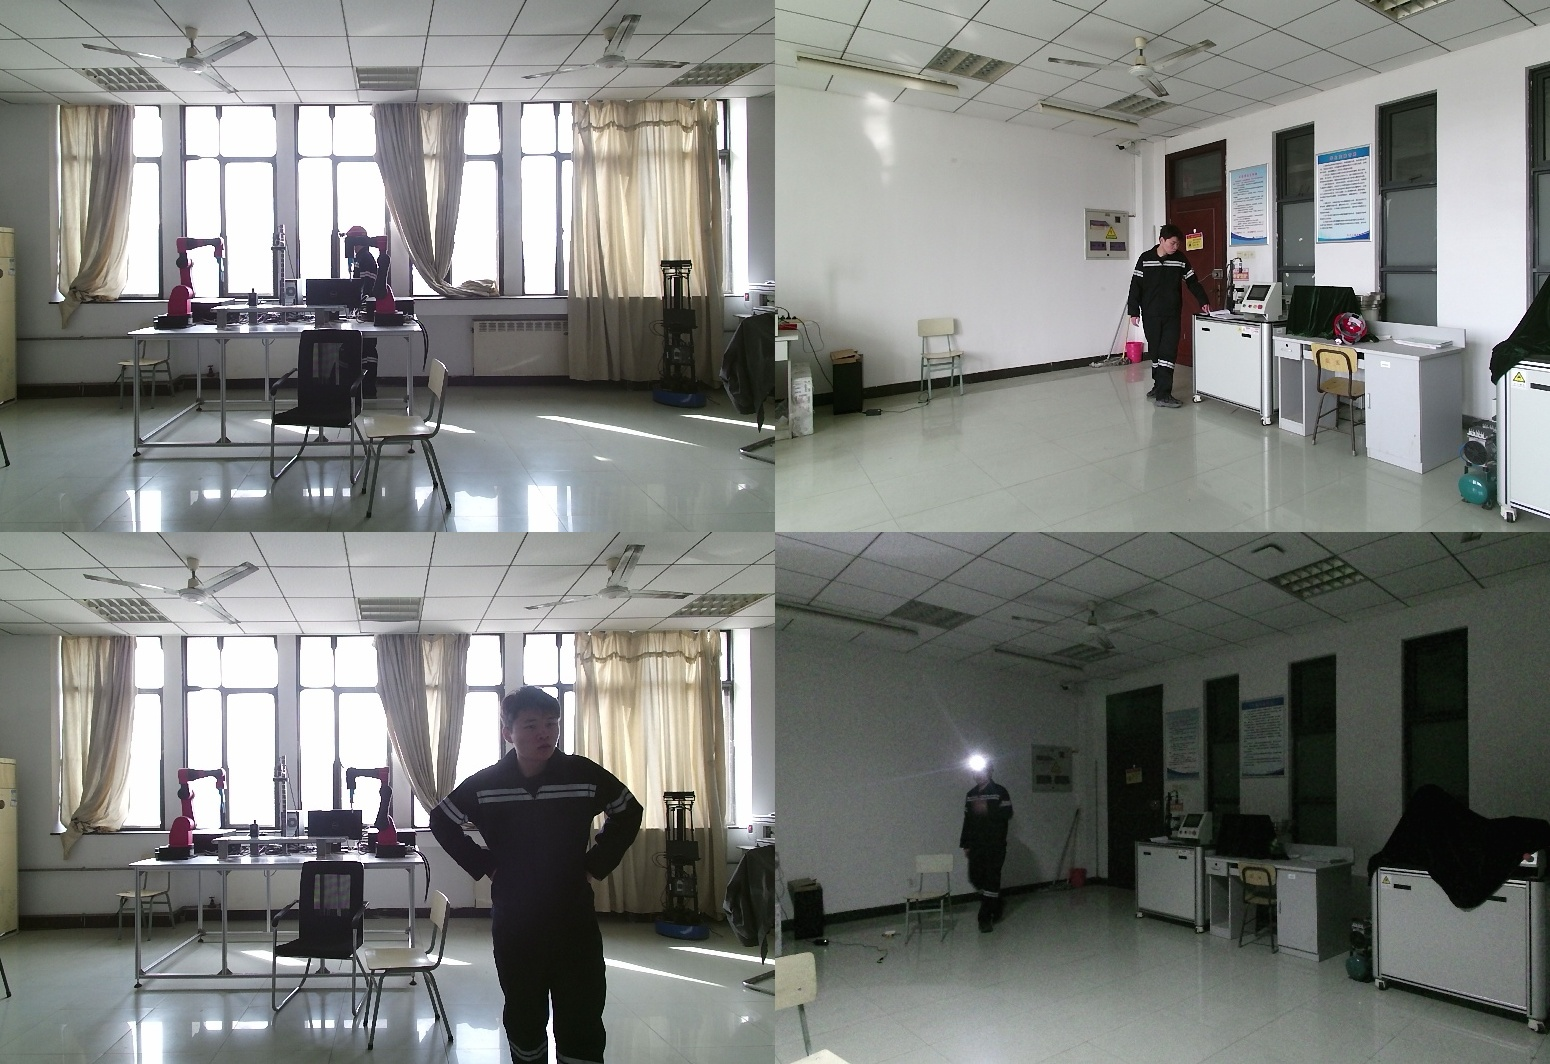person: (437, 684, 674, 1064), (1129, 226, 1215, 410), (961, 756, 1019, 939), (335, 225, 379, 398)
